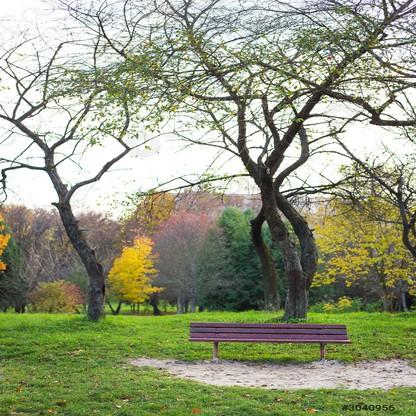obstacle: (183, 309, 355, 362)
